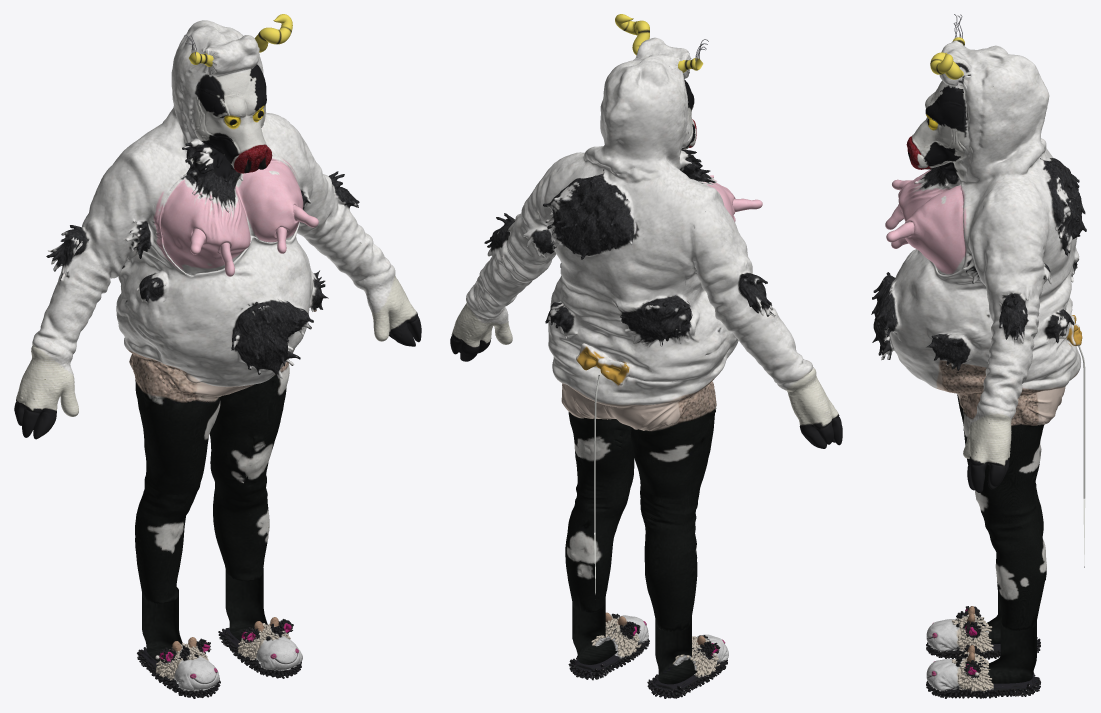
Rendered from Misanthropic_Cow.glb.
3 renders of one model, left to right at view 1: azimuth 30°, elevation 25°; view 2: azimuth 150°, elevation 25°; view 3: azimuth 270°, elevation 25°, orthographic. The views are drawn at different scales.
Parts seen in each view (by area): view 1: Cow_body, Slipper_R, Slipper_L; view 2: Cow_body, Slipper_L, Slipper_R; view 3: Cow_body, Slipper_L, Slipper_R.
Part boxes in pixels (x1=…): Cow_body: x1=14, y1=14, x2=421, y2=661; Slipper_R: x1=137, y1=637, x2=220, y2=698; Slipper_L: x1=218, y1=617, x2=302, y2=678; Cow_body: x1=450, y1=14, x2=842, y2=684; Slipper_L: x1=568, y1=612, x2=649, y2=680; Slipper_R: x1=647, y1=634, x2=728, y2=698; Cow_body: x1=871, y1=14, x2=1086, y2=683; Slipper_L: x1=926, y1=644, x2=1040, y2=698; Slipper_R: x1=926, y1=606, x2=1040, y2=659.
Size of the model in its own units: 1.04 by 1.65 by 0.5053.
2 materials, 2 textured.
